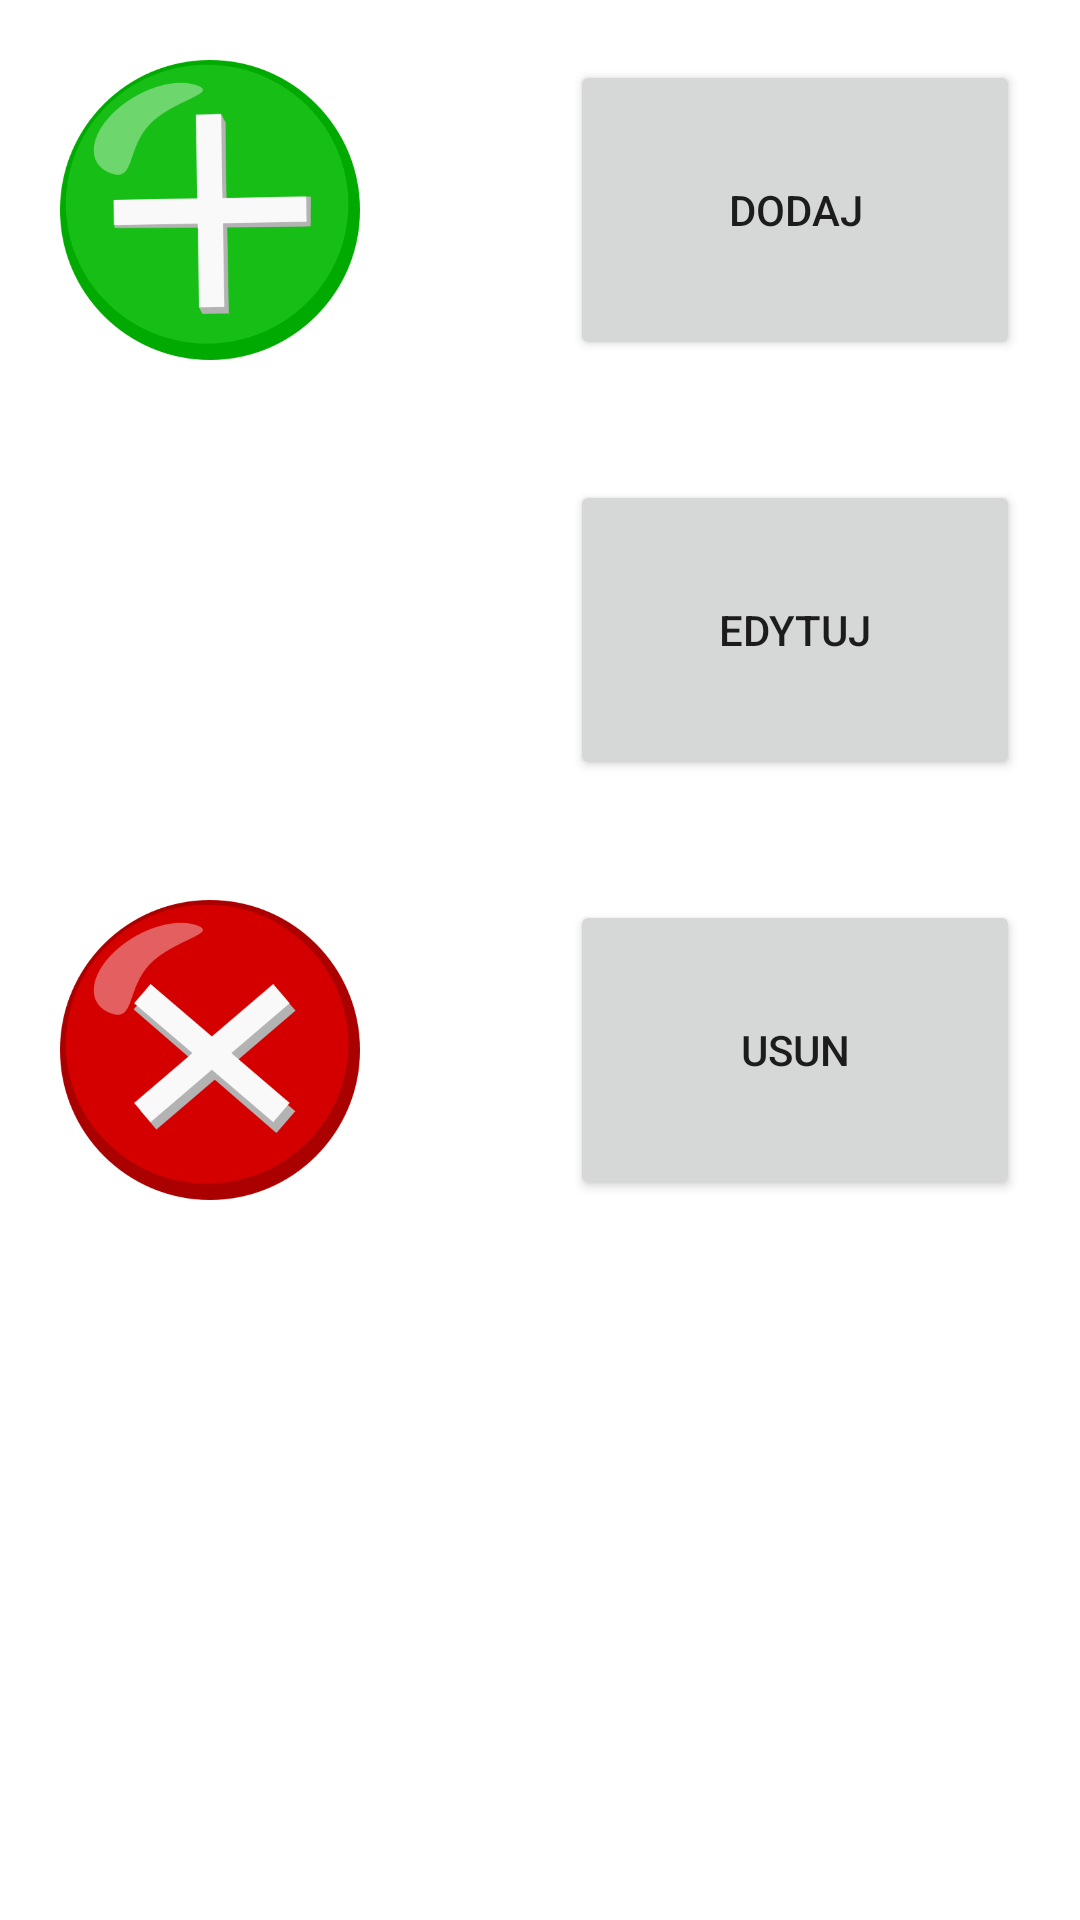

Point at icon controls on the screen. Image size 1080w x 1920h, points as point (x, y).
add: point (210, 210)
remove: point (210, 1050)
